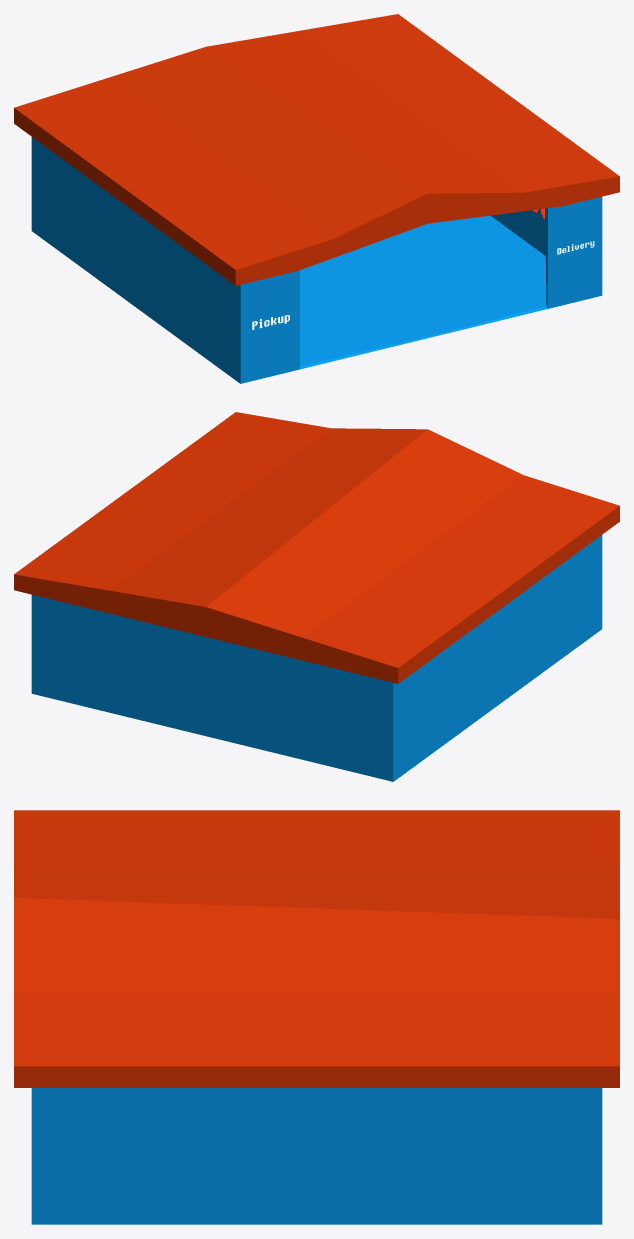
Rendered from building-again-again.gltf.
The picture shows the model from 3 angles, top to bottom: view 1: azimuth 30°, elevation 25°; view 2: azimuth 150°, elevation 25°; view 3: azimuth 270°, elevation 25°; orthographic projection. The views are drawn at different scales.
Parts seen in each view (by area): view 1: Cube; view 2: Cube; view 3: Cube.
Boxes of the visible parts, x1,y1,x2,y2 form: Cube: (14,14,619,383); Cube: (14,412,619,781); Cube: (14,810,619,1224).
Size of the model in its own units: 14.21 by 5.33 by 14.21.
